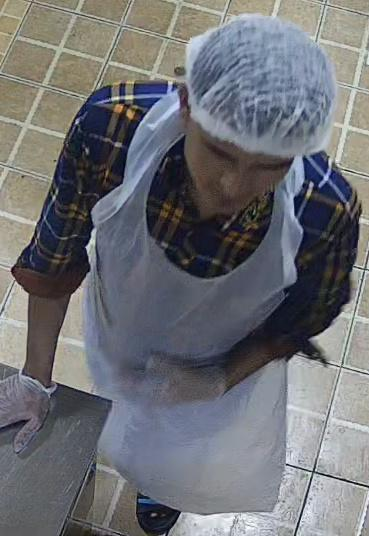apron: (71, 74, 312, 399)
